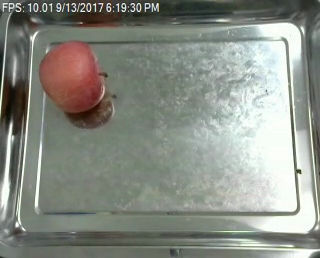Apple: (36, 37, 107, 115)
